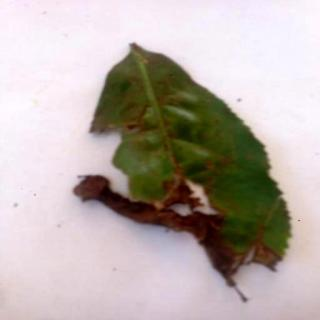Brown Blight: (76, 42, 294, 304)
